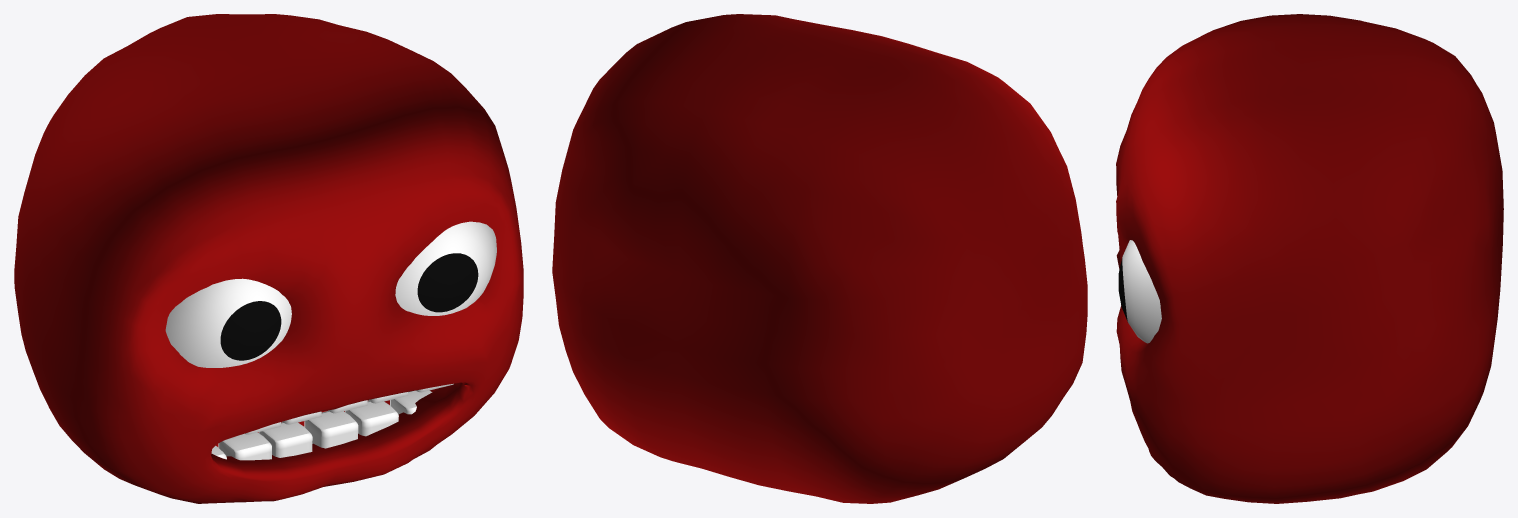
The model's file is CUBO_caminar2.FBX.
3 renders of one model, left to right at view 1: azimuth 30°, elevation 25°; view 2: azimuth 150°, elevation 25°; view 3: azimuth 270°, elevation 25°, orthographic. The views are drawn at different scales.
Parts seen in each view (by area): view 1: neutral; view 2: neutral; view 3: neutral.
Part boxes in pixels (x1,y1,x2,y2): neutral: (14, 14, 523, 503); neutral: (552, 14, 1087, 503); neutral: (1116, 14, 1503, 503).
Size of the model in its own units: 75.27 by 65.72 by 57.89.
